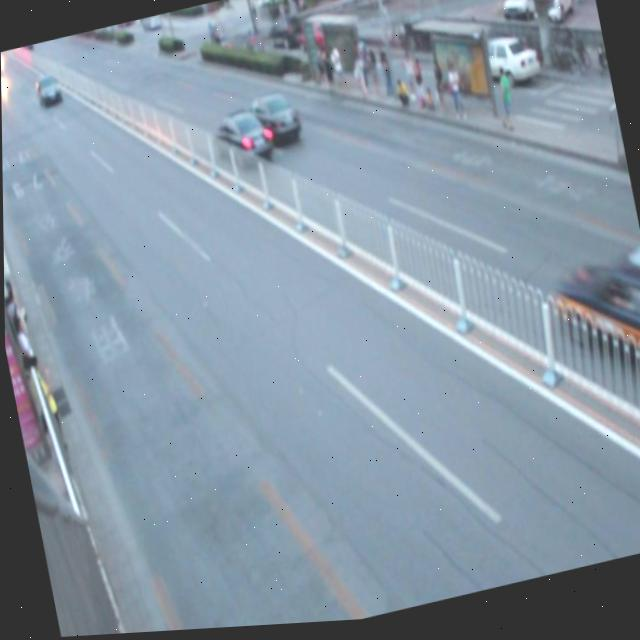car: (545, 249, 640, 433), (208, 107, 274, 178), (238, 87, 303, 157)
